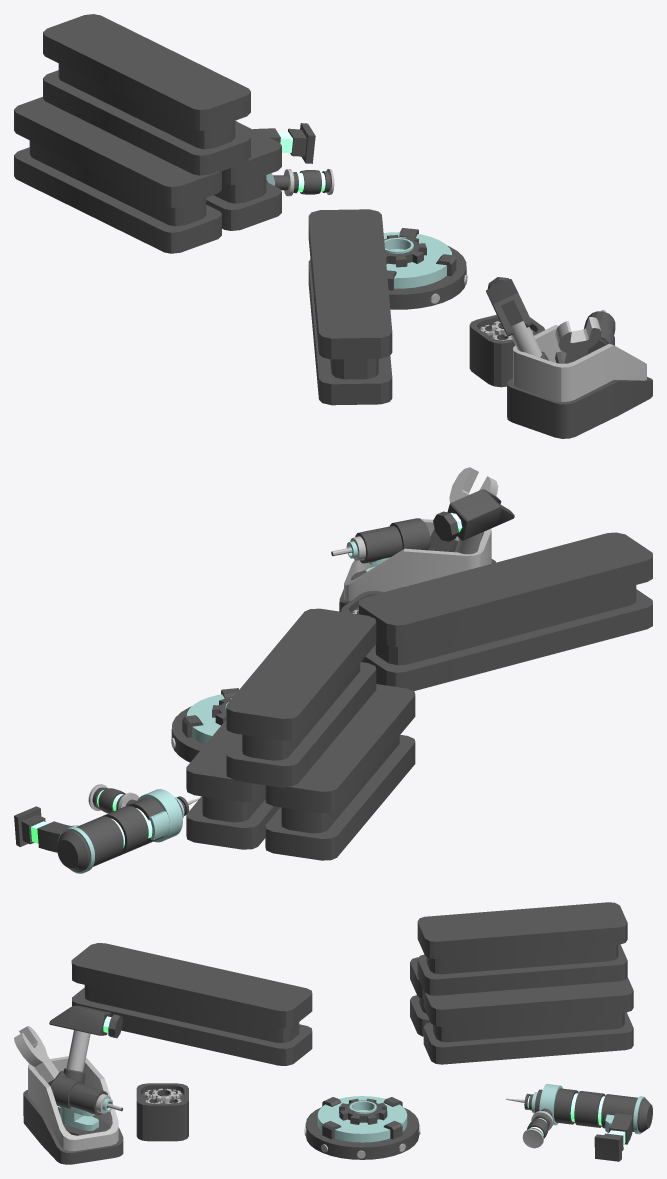
Rendered from BureauUsineur.fbx.
3 views of the same model, one above another, from view 1: azimuth 30°, elevation 25°; view 2: azimuth 150°, elevation 25°; view 3: azimuth 270°, elevation 25° (orthographic). The views are drawn at different scales.
Visible parts, largest first — view 1: Cylinder.012; view 2: Cylinder.012; view 3: Cylinder.012.
Boxes of the visible parts, x1=… form: Cylinder.012: x1=14, y1=14, x2=652, y2=438; Cylinder.012: x1=14, y1=467, x2=652, y2=873; Cylinder.012: x1=14, y1=902, x2=652, y2=1164.
Bounding box in the file's own units: 86.04 × 49.04 × 186.
